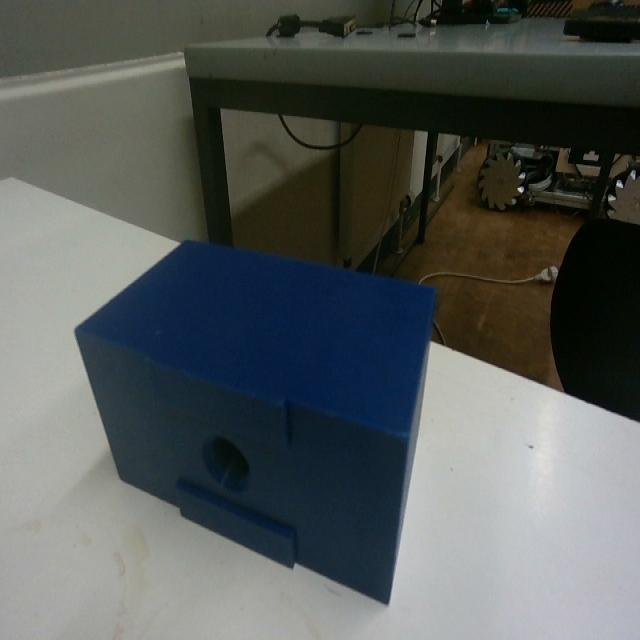Blue Cuboid: (72, 234, 438, 606)
